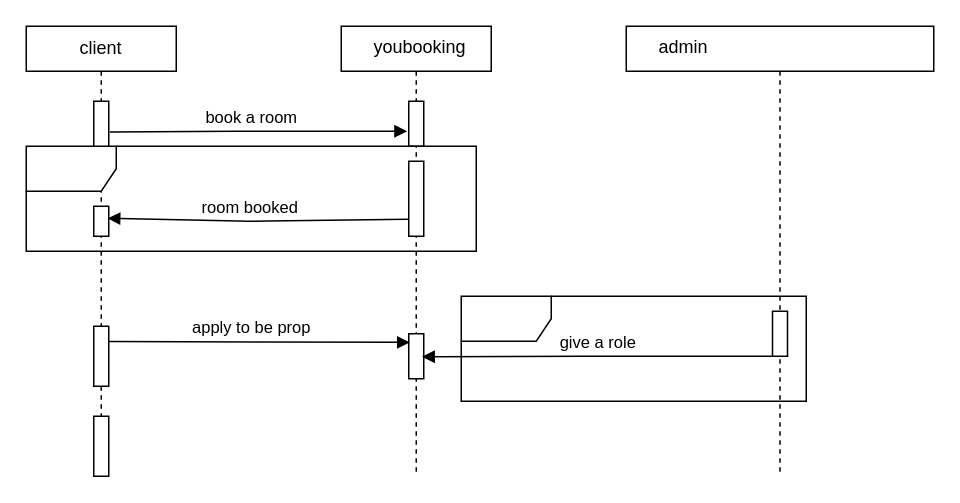
This 960x503 diagram has some shape labels left out. The shapes that lost their labels are listed below. From the top down, each one's box as (x1, y1, x2, y2) in pixels, then its label:
(25, 145, 476, 251): if available
(460, 295, 806, 401): if meet req
